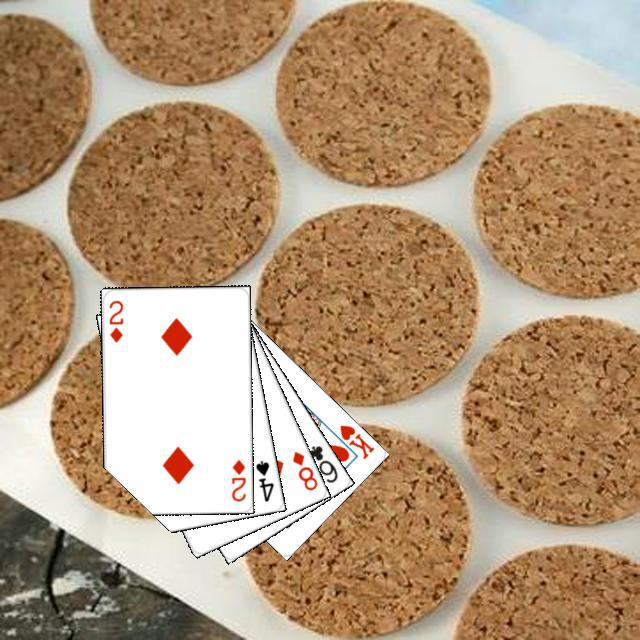2d: (104, 295, 125, 344), (227, 455, 247, 503)
4s: (251, 455, 276, 503)
6c: (304, 440, 340, 485)
8d: (287, 446, 319, 492)
Kh: (325, 420, 376, 461)
